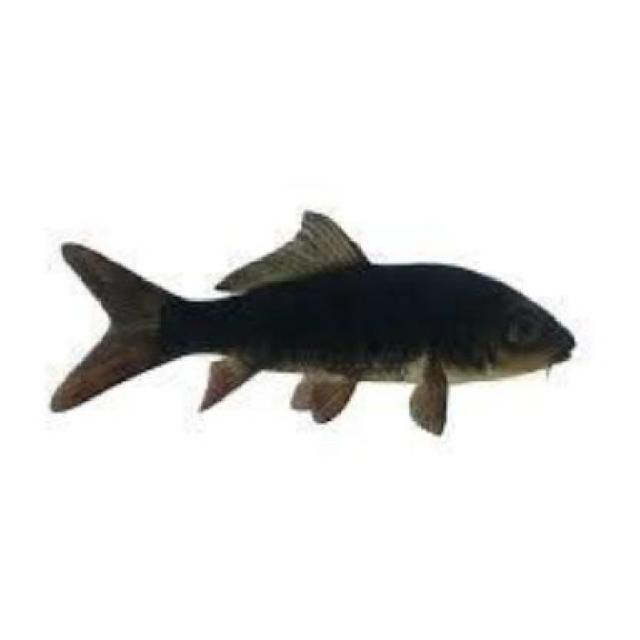ikan-mas: (50, 213, 587, 439)
